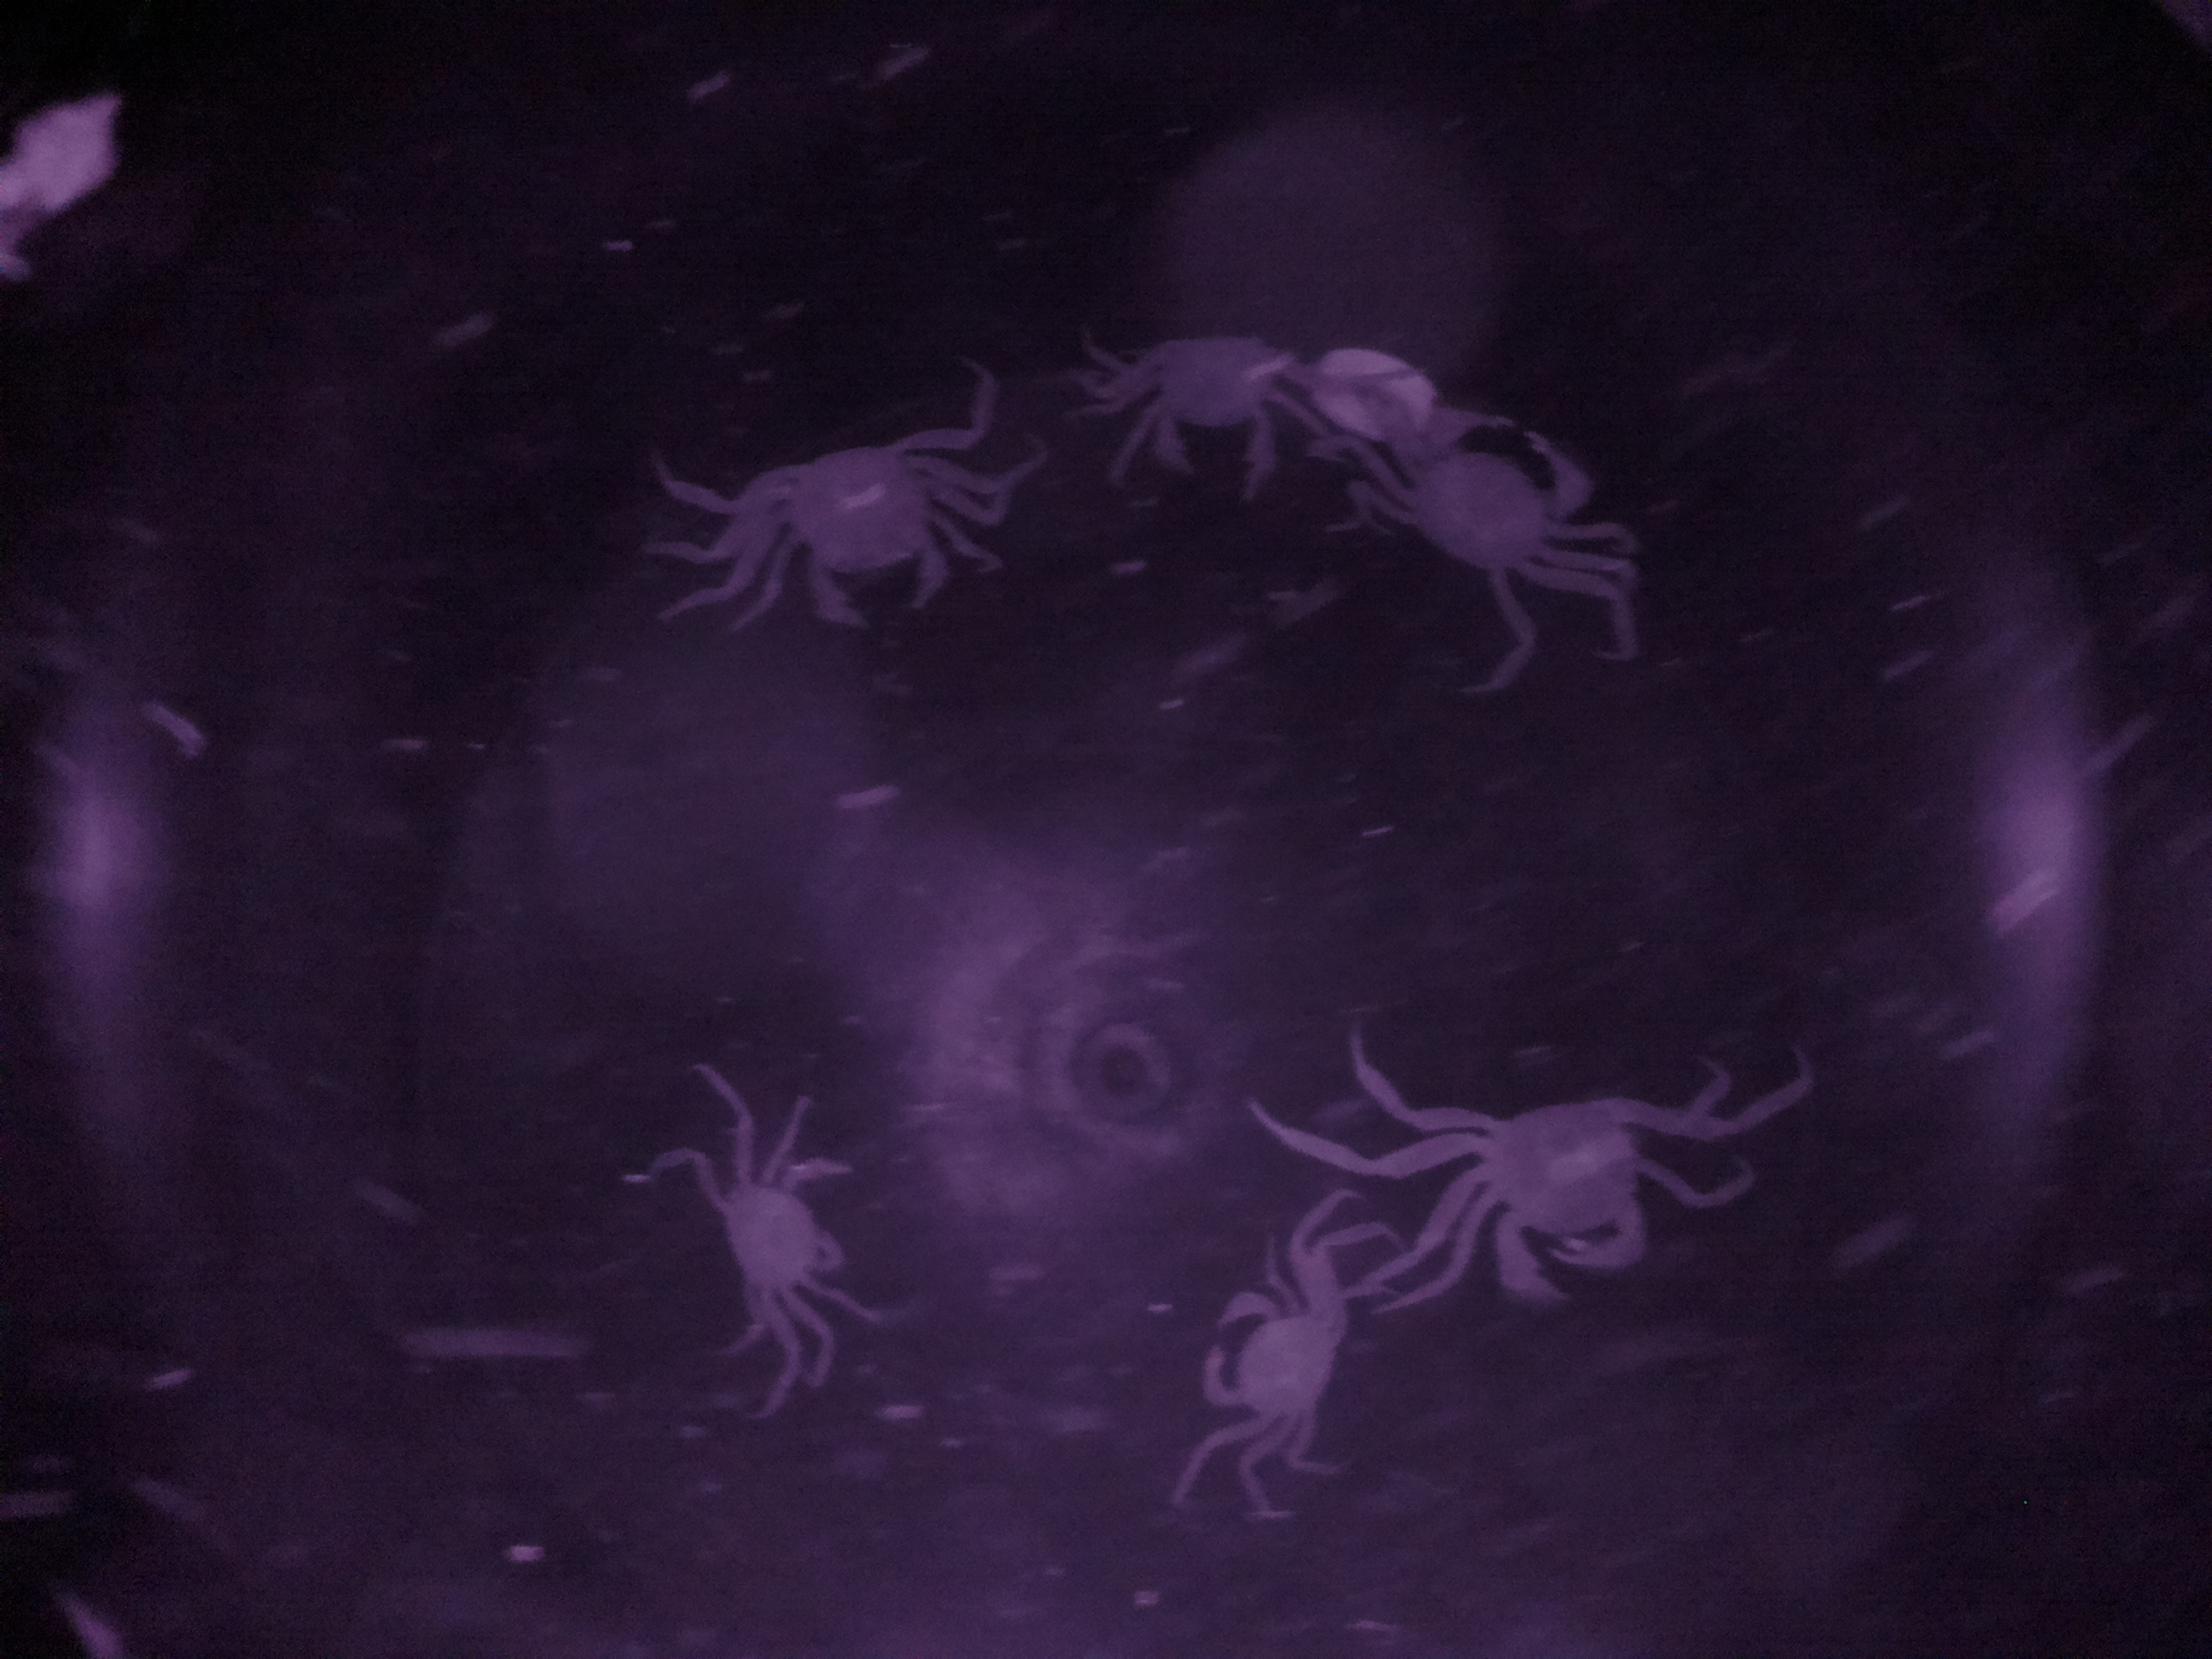Crab: (726, 403, 1021, 648), (1329, 375, 1651, 598), (1418, 1070, 1703, 1321), (691, 1138, 895, 1351), (1195, 1251, 1379, 1469)
